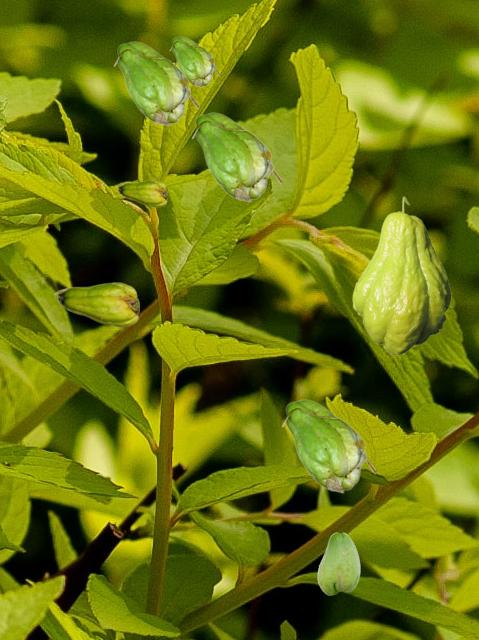sayote: (352, 196, 450, 354), (281, 399, 374, 492), (191, 112, 280, 201), (113, 41, 197, 125), (54, 282, 138, 326), (317, 532, 359, 594), (169, 36, 219, 86), (116, 180, 166, 206)
